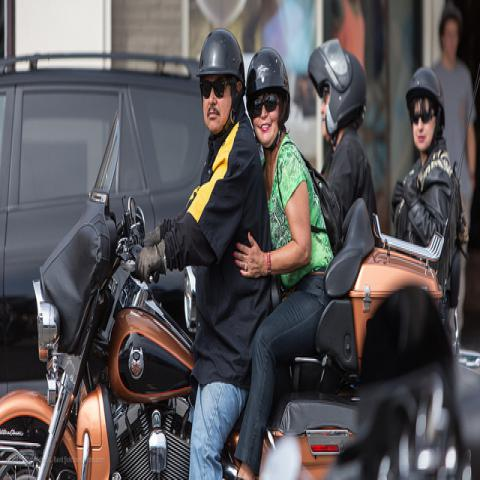car: (1, 60, 207, 298)
motorcycle: (1, 187, 449, 474), (444, 252, 462, 364), (452, 342, 480, 380)
